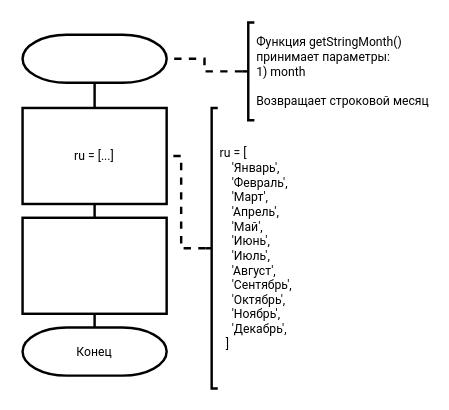
The diagram is 449 pixels wide and 410 high, and some of its shapes have lost their labels. The centre of each missing label's shape, as x and y in pixels:
return ru[month-1]: [94,265]
Начало: [94,58]
